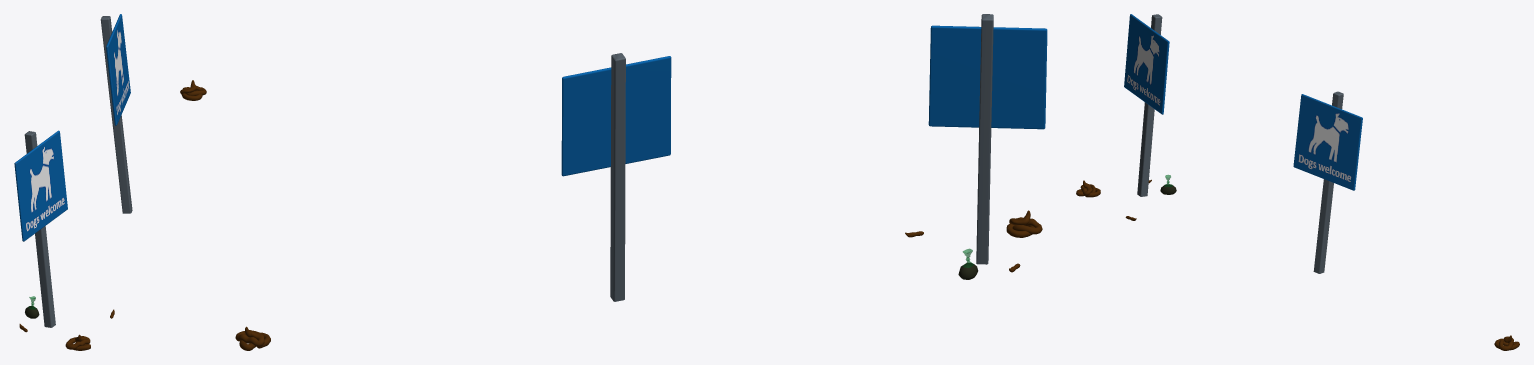
File: poopStuff.fbx
The picture shows the model from 3 angles, left to right: view 1: azimuth 30°, elevation 25°; view 2: azimuth 150°, elevation 25°; view 3: azimuth 270°, elevation 25°; orthographic projection. The views are drawn at different scales.
Visible parts, largest first — view 1: dogSign, dogSign1, dogPoopBig1, dogPoopBig, dogPoopBag; view 2: dogSign, dogSign1, dogPoopBig; view 3: dogSign1, dogSign.
Part boxes in pixels (left/top/right/bottom): dogSign: left=14, top=130, right=67, bottom=327; dogSign1: left=100, top=14, right=132, bottom=213; dogPoopBig1: left=180, top=80, right=206, bottom=100; dogPoopBig: left=65, top=334, right=90, bottom=350; dogPoopBag: left=25, top=296, right=39, bottom=318; dogSign: left=928, top=14, right=1047, bottom=264; dogSign1: left=561, top=53, right=671, bottom=301; dogPoopBig: left=1006, top=210, right=1042, bottom=237; dogSign1: left=1293, top=91, right=1362, bottom=273; dogSign: left=1124, top=14, right=1169, bottom=196.
Size of the model in its own units: 2.32 by 1.07 by 2.46.
